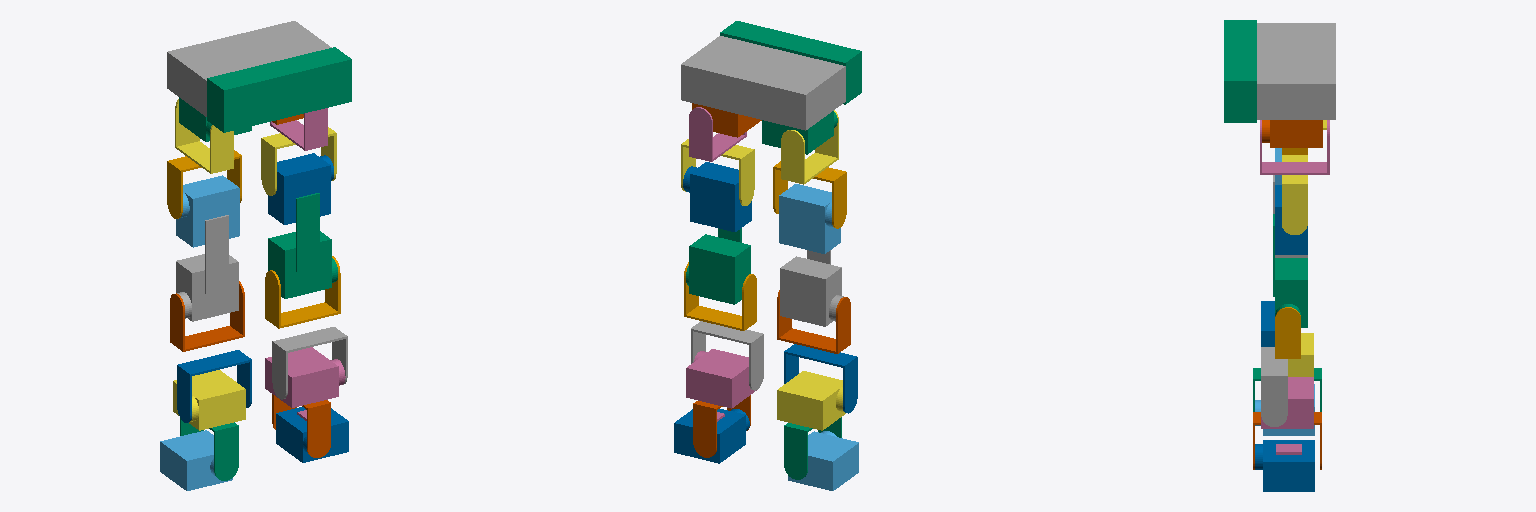
--- Render facts (derived) ---
The picture shows the robot from 3 angles, left to right: view 1: azimuth 30°, elevation 25°; view 2: azimuth 150°, elevation 25°; view 3: azimuth 270°, elevation 25°; orthographic projection.
Model humanoidV3_half with 35 links and 34 joints (8 revolute, 26 fixed), rooted at base_link, posed all joints at 0.
Links seen in each view (by area): view 1: Comp5, Comp3, servo5, servo6, servo8, servo7, servo3, servo4, servo2, csmall2, servo1, csmall7 (+9 smaller); view 2: Comp3, servo6, servo5, servo7, servo8, servo4, servo3, Comp5, servo2, servo1, csmall5, csmall2 (+10 smaller); view 3: Comp3, Comp5, servo1, servo5, csmall7, csmall9, servo9, servo3, csmall8, csmall10, servo7, servo4 (+1 smaller).
Boxes of the visible links, x1,y1,x2,y2 form: Comp5: [207, 47, 351, 132]; Comp3: [167, 21, 331, 116]; servo5: [268, 193, 337, 298]; servo6: [176, 215, 238, 321]; servo8: [176, 175, 239, 247]; servo7: [268, 153, 333, 224]; servo3: [265, 347, 345, 407]; servo4: [173, 370, 245, 430]; servo2: [160, 430, 232, 490]; csmall2: [177, 350, 251, 422]; servo1: [276, 407, 348, 462]; csmall7: [272, 327, 347, 399]; Comp3: [681, 36, 845, 130]; servo6: [780, 250, 843, 326]; servo5: [686, 228, 750, 304]; servo7: [683, 162, 751, 231]; servo8: [779, 184, 840, 253]; servo4: [777, 371, 845, 430]; servo3: [686, 349, 756, 408]; Comp5: [720, 21, 861, 104]; servo2: [788, 431, 858, 490]; servo1: [674, 409, 749, 463]; csmall5: [781, 110, 838, 184]; csmall2: [784, 344, 857, 413]; Comp3: [1257, 23, 1335, 119]; Comp5: [1224, 20, 1256, 122]; servo1: [1255, 440, 1314, 491]; servo5: [1273, 214, 1307, 327]; csmall7: [1261, 347, 1287, 426]; csmall9: [1282, 155, 1307, 234]; servo9: [1262, 120, 1322, 147]; servo3: [1261, 377, 1313, 428]; csmall8: [1275, 307, 1300, 358]; csmall10: [1260, 120, 1329, 174]; servo7: [1275, 185, 1307, 254]; servo4: [1288, 333, 1313, 376].
Bounding box of the posed robot: 0.1396 × 0.085 × 0.3379 m (x, y, z).
23 mesh visuals loaded from 35 distinct referenced files (23 binary STL); not drawn: 12 (reference not matched to a file when rendering).

robot.urdf — humanoidV3_half:
<?xml version='1.0' encoding='utf-8'?>
<robot name="humanoidV3_half">
    <link name="ankel1">
        <inertial>
            <origin xyz="-2.8545686614478426e-09 4.961367341405065e-09 0.0008749966309221885" rpy="0.0 -0.0 0.0" />
            <mass value="0.022345050000000005" />
            <inertia ixx="2.6819762642970662e-05" iyy="7.87302233046875e-06" izz="3.4681379687502375e-05" ixy="-4.446922973085077e-20" iyz="-5.815410578492806e-20" ixz="2.0434669852509998e-19" />
        </inertial>
        <visual name="ankel1_visual">
            <origin xyz="-0.03250000285456978 -0.0099999950386329 0.0017499966309222068" rpy="-3.141592653589791 4.267419750902977e-16 -6.881682016646111e-16" />
            <geometry>
                <mesh filename="meshes/ankel1.stl" scale="0.001 0.001 0.001" />
            </geometry>
        </visual>
        <collision name="ankel1_collision">
            <origin xyz="-0.03250000285456978 -0.0099999950386329 0.0017499966309222068" rpy="-3.141592653589791 4.267419750902977e-16 -6.881682016646111e-16" />
            <geometry>
                <mesh filename="meshes/ankel1.stl" scale="0.001 0.001 0.001" />
            </geometry>
        </collision>
    </link>
    <link name="servo2">
        <inertial>
            <origin xyz="-0.009549971198737257 0.0023874887169520755 0.024964922230111784" rpy="0.0 -0.0 0.0" />
            <mass value="0.05780123871717229" />
            <inertia ixx="1.1637489216004055e-05" iyy="1.635538058948426e-05" izz="1.0629005497785803e-05" ixy="6.210436850517169e-08" iyz="-1.4284004757590833e-07" ixz="5.713601902397425e-07" />
        </inertial>
        <visual name="servo2_visual">
            <origin xyz="-0.05000000285457011 0.01674999663092223 0.03599999503863284" rpy="1.570796326794899 -6.881682016646106e-16 -6.486781597980867e-16" />
            <geometry>
                <mesh filename="meshes/servo2.stl" scale="0.001 0.001 0.001" />
            </geometry>
        </visual>
        <collision name="servo2_collision">
            <origin xyz="-0.05000000285457011 0.01674999663092223 0.03599999503863284" rpy="1.570796326794899 -6.881682016646106e-16 -6.486781597980867e-16" />
            <geometry>
                <mesh filename="meshes/servo2.stl" scale="0.001 0.001 0.001" />
            </geometry>
        </collision>
    </link>
    <link name="csmall1">
        <inertial>
            <origin xyz="-3.4451162012061334e-09 4.96135654781682e-09 0.013088698801773916" rpy="0.0 -0.0 0.0" />
            <mass value="0.007517560189288541" />
            <inertia ixx="4.996715608195631e-06" iyy="1.5854743173647894e-06" izz="3.897412167647726e-06" ixy="3.705769144237565e-21" iyz="1.6548906206980893e-18" ixz="-2.315078264183458e-14" />
        </inertial>
        <visual name="csmall1_visual">
            <origin xyz="-0.050000003599628244 -0.011249995575074707 0.049999996884241976" rpy="-3.141592653589791 6.486781597980804e-16 1.4153138822986764e-15" />
            <geometry>
                <mesh filename="meshes/csmall1.stl" scale="0.001 0.001 0.001" />
            </geometry>
        </visual>
        <collision name="csmall1_collision">
            <origin xyz="-0.050000003599628244 -0.011249995575074707 0.049999996884241976" rpy="-3.141592653589791 6.486781597980804e-16 1.4153138822986764e-15" />
            <geometry>
                <mesh filename="meshes/csmall1.stl" scale="0.001 0.001 0.001" />
            </geometry>
        </collision>
    </link>
    <link name="servo4">
        <inertial>
            <origin xyz="-0.0023874888659620196 -0.009549963382800864 0.024964923591852428" rpy="3.111507638930571e-61 -0.0 0.0" />
            <mass value="0.05780123871717229" />
            <inertia ixx="1.6355380589484585e-05" iyy="1.16374892159973e-05" izz="1.0629005497790953e-05" ixy="-6.21043685048261e-08" iyz="5.713601902392325e-07" ixz="1.4284004757467357e-07" />
        </inertial>
        <visual name="servo4_visual">
            <origin xyz="-0.0657499967799339 -0.021999995038632862 -0.02000000359962833" rpy="-3.1415926535897913 -1.5707963267948952 0" />
            <geometry>
                <mesh filename="meshes/servo4.stl" scale="0.001 0.001 0.001" />
            </geometry>
        </visual>
        <collision name="servo4_collision">
            <origin xyz="-0.0657499967799339 -0.021999995038632862 -0.02000000359962833" rpy="-3.1415926535897913 -1.5707963267948952 0" />
            <geometry>
                <mesh filename="meshes/servo4.stl" scale="0.001 0.001 0.001" />
            </geometry>
        </collision>
    </link>
    <link name="csmall2">
        <inertial>
            <origin xyz="-3.5996271297022987e-09 4.37082019244528e-09 0.013088698950758672" rpy="0.0 -0.0 0.0" />
            <mass value="0.0075175601892790555" />
            <inertia ixx="1.5854743173617604e-06" iyy="4.996715608184517e-06" izz="3.897412167641438e-06" ixy="-8.555032767268433e-20" iyz="-2.315089021501888e-14" ixz="2.913793338554793e-19" />
        </inertial>
        <visual name="csmall2_visual">
            <origin xyz="-0.04450000359962822 -0.021749996320132744 0.09899999703325346" rpy="-3.141592653589791 4.271059138961151e-16 1.235205088950724e-15" />
            <geometry>
                <mesh filename="meshes/csmall2.stl" scale="0.001 0.001 0.001" />
            </geometry>
        </visual>
        <collision name="csmall2_collision">
            <origin xyz="-0.04450000359962822 -0.021749996320132744 0.09899999703325346" rpy="-3.141592653589791 4.271059138961151e-16 1.235205088950724e-15" />
            <geometry>
                <mesh filename="meshes/csmall2.stl" scale="0.001 0.001 0.001" />
            </geometry>
        </collision>
    </link>
    <link name="csmall3">
        <inertial>
            <origin xyz="-0.01991129603275702 -1.602994736948915e-09 -0.024749996400372908" rpy="0.0 -0.0 0.0" />
            <mass value="0.007517560189279032" />
            <inertia ixx="3.897412167641516e-06" iyy="4.996715608183798e-06" izz="1.585474317361652e-06" ixy="2.3150932566666244e-14" iyz="-1.5648933700523199e-19" ixz="4.87890977618477e-19" />
        </inertial>
        <visual name="csmall3_visual">
            <origin xyz="-0.14699999845690884 0.021749999087958233 0.01975000359962813" rpy="1.4217821258131194e-15 1.5707963267948954 0" />
            <geometry>
                <mesh filename="meshes/csmall3.stl" scale="0.001 0.001 0.001" />
            </geometry>
        </visual>
        <collision name="csmall3_collision">
            <origin xyz="-0.14699999845690884 0.021749999087958233 0.01975000359962813" rpy="1.4217821258131194e-15 1.5707963267948954 0" />
            <geometry>
                <mesh filename="meshes/csmall3.stl" scale="0.001 0.001 0.001" />
            </geometry>
        </collision>
    </link>
    <link name="Comp1">
        <inertial>
            <origin xyz="-3.5996270320026726e-09 0.005234147832397131 0.007101232491757727" rpy="0.0 -0.0 0.0" />
            <mass value="0.024635392744770463" />
            <inertia ixx="1.4596525160532757e-06" iyy="6.1808355249345025e-06" izz="6.812286694457537e-06" ixy="-3.5914196963582334e-19" iyz="-3.052234876525849e-07" ixz="1.1384122811097797e-18" />
        </inertial>
        <visual name="Comp1_visual">
            <origin xyz="-0.044500003599628184 -0.011309445863593127 0.11331588555303221" rpy="-3.141592653589791 4.270652564688459e-16 1.2352050889507236e-15" />
            <geometry>
                <mesh filename="meshes/Comp1.stl" scale="0.001 0.001 0.001" />
            </geometry>
        </visual>
        <collision name="Comp1_collision">
            <origin xyz="-0.044500003599628184 -0.011309445863593127 0.11331588555303221" rpy="-3.141592653589791 4.270652564688459e-16 1.2352050889507236e-15" />
            <geometry>
                <mesh filename="meshes/Comp1.stl" scale="0.001 0.001 0.001" />
            </geometry>
        </collision>
    </link>
    <link name="servo6">
        <inertial>
            <origin xyz="-0.001510475292044493 -0.059836430778758824 -0.011754290813263743" rpy="0.0 -0.0 0.0" />
            <mass value="0.060699238717172255" />
            <inertia ixx="1.4693730397501246e-05" iyy="1.2227175300402873e-05" izz="2.003750615803962e-05" ixy="-7.085129238231869e-07" iyz="-1.084649952349311e-06" ixz="8.478544706950229e-08" />
        </inertial>
        <visual name="servo6_visual">
            <origin xyz="-0.04655113359962817 -0.2166323182035889 -0.03199999780645821" rpy="-1.5707963267948952 -1.0134561938895422e-15 6.4929979419121075e-16" />
            <geometry>
                <mesh filename="meshes/servo6.stl" scale="0.001 0.001 0.001" />
            </geometry>
        </visual>
        <collision name="servo6_collision">
            <origin xyz="-0.04655113359962817 -0.2166323182035889 -0.03199999780645821" rpy="-1.5707963267948952 -1.0134561938895422e-15 6.4929979419121075e-16" />
            <geometry>
                <mesh filename="meshes/servo6.stl" scale="0.001 0.001 0.001" />
            </geometry>
        </collision>
    </link>
    <link name="csmall4">
        <inertial>
            <origin xyz="-1.751608404987337e-09 2.7840902250275692e-09 0.013088702348303408" rpy="0.0 -0.0 1.9446922743316068e-62" />
            <mass value="0.007517560189288577" />
            <inertia ixx="1.5854743173664902e-06" iyy="4.996715608188542e-06" izz="3.897412167648268e-06" ixy="-4.9763185651190145e-19" iyz="2.3150987623807816e-14" ixz="3.2255014631443757e-18" />
        </inertial>
        <visual name="csmall4_visual">
            <origin xyz="-0.044500001751597844 -0.016749999087958135 0.2590000007288018" rpy="-3.141592653589792 9.937682315333398e-16 7.301558552254602e-16" />
            <geometry>
                <mesh filename="meshes/csmall4.stl" scale="0.001 0.001 0.001" />
            </geometry>
        </visual>
        <collision name="csmall4_collision">
            <origin xyz="-0.044500001751597844 -0.016749999087958135 0.2590000007288018" rpy="-3.141592653589792 9.937682315333398e-16 7.301558552254602e-16" />
            <geometry>
                <mesh filename="meshes/csmall4.stl" scale="0.001 0.001 0.001" />
            </geometry>
        </collision>
    </link>
    <link name="servo8">
        <inertial>
            <origin xyz="-0.009549968521620045 0.002387494279572859 0.024964925439881967" rpy="0.0 -0.0 0.0" />
            <mass value="0.05780123871717224" />
            <inertia ixx="1.1637489216007708e-05" iyy="1.635538058944062e-05" izz="1.0629005497797377e-05" ixy="6.210436850423657e-08" iyz="-1.4284004757892906e-07" ixz="5.713601902298474e-07" />
        </inertial>
        <visual name="servo8_visual">
            <origin xyz="-0.22725000098212164 -0.01650000036945807 -0.020000001751597975" rpy="-3.141592653589792 -1.5707963267948954 0" />
            <geometry>
                <mesh filename="meshes/servo8.stl" scale="0.001 0.001 0.001" />
            </geometry>
        </visual>
        <collision name="servo8_collision">
            <origin xyz="-0.22725000098212164 -0.01650000036945807 -0.020000001751597975" rpy="-3.141592653589792 -1.5707963267948954 0" />
            <geometry>
                <mesh filename="meshes/servo8.stl" scale="0.001 0.001 0.001" />
            </geometry>
        </collision>
    </link>
    <link name="servo10">
        <inertial>
            <origin xyz="-0.00011250838944206975 -0.0010350757471211313 0.02045003415248685" rpy="-1.5557538194652854e-61 -0.0 0.0" />
            <mass value="0.05780123871717229" />
            <inertia ixx="1.6355380589490006e-05" iyy="1.0629005497729722e-05" izz="1.1637489216025435e-05" ixy="-1.4284004757451093e-07" iyz="5.713601902344519e-07" ixz="6.210436852066223e-08" />
        </inertial>
        <visual name="servo10_visual">
            <origin xyz="-0.2892500004754824 0.009999997061400298 0.08000000249665645" rpy="1.0914125846925462e-15 1.570796326794896 0" />
            <geometry>
                <mesh filename="meshes/servo10.stl" scale="0.001 0.001 0.001" />
            </geometry>
        </visual>
        <collision name="servo10_collision">
            <origin xyz="-0.2892500004754824 0.009999997061400298 0.08000000249665645" rpy="1.0914125846925462e-15 1.570796326794896 0" />
            <geometry>
                <mesh filename="meshes/servo10.stl" scale="0.001 0.001 0.001" />
            </geometry>
        </collision>
    </link>
    <link name="csmall5">
        <inertial>
            <origin xyz="-1.9061078493365357e-09 -0.019911298304645192 -0.024749997061399593" rpy="0.0 -0.0 0.0" />
            <mass value="0.0075175601892790815" />
            <inertia ixx="4.996715608188542e-06" iyy="3.897412167641834e-06" izz="1.5854743173523414e-06" ixy="2.314892255748241e-14" iyz="-9.825582188149884e-20" ixz="-6.238397656527922e-19" />
        </inertial>
        <visual name="csmall5_visual">
            <origin xyz="-0.050000002496656315 -0.29600000072880195 -0.03699999834290019" rpy="-1.5707963267948954 -7.301558552254616e-16 4.52906399314503e-16" />
            <geometry>
                <mesh filename="meshes/csmall5.stl" scale="0.001 0.001 0.001" />
            </geometry>
        </visual>
        <collision name="csmall5_collision">
            <origin xyz="-0.050000002496656315 -0.29600000072880195 -0.03699999834290019" rpy="-1.5707963267948954 -7.301558552254616e-16 4.52906399314503e-16" />
            <geometry>
                <mesh filename="meshes/csmall5.stl" scale="0.001 0.001 0.001" />
            </geometry>
        </collision>
    </link>
    <link name="servo1">
        <inertial>
            <origin xyz="0.009549966518355255 0.002387488716951498 0.02496492223011178" rpy="0.0 -1.9446922743316068e-62 0.0" />
            <mass value="0.05780123871717229" />
            <inertia ixx="1.1637489216004664e-05" iyy="1.635538058948399e-05" izz="1.0629005497773958e-05" ixy="-6.21043685011737e-08" iyz="-1.4284004757605402e-07" ixz="-5.713601902385041e-07" />
        </inertial>
        <visual name="servo1_visual">
            <origin xyz="-0.12500000182581783 0.016749996630921686 0.035999995038633055" rpy="1.5707963267948986 1.3102332426606643e-15 -4.0766001685454745e-16" />
            <geometry>
                <mesh filename="meshes/servo1.stl" scale="0.001 0.001 0.001" />
            </geometry>
        </visual>
        <collision name="servo1_collision">
            <origin xyz="-0.12500000182581783 0.016749996630921686 0.035999995038633055" rpy="1.5707963267948986 1.3102332426606643e-15 -4.0766001685454745e-16" />
            <geometry>
                <mesh filename="meshes/servo1.stl" scale="0.001 0.001 0.001" />
            </geometry>
        </collision>
    </link>
    <link name="csmall6">
        <inertial>
            <origin xyz="-1.2352658984582377e-09 4.961367565670116e-09 0.01308869880174826" rpy="0.0 -0.0 0.0" />
            <mass value="0.007517560189279023" />
            <inertia ixx="4.996715608185755e-06" iyy="1.5854743173593074e-06" izz="3.897412167641319e-06" ixy="-1.367958209815695e-19" iyz="1.747005453711994e-20" ixz="2.3151355236106924e-14" />
        </inertial>
        <visual name="csmall6_visual">
            <origin xyz="-0.1250000010807597 -0.011249995575074768 0.04999999688424148" rpy="-3.141592653589791 4.0766001685454656e-16 1.2490009069339105e-15" />
            <geometry>
                <mesh filename="meshes/csmall6.stl" scale="0.001 0.001 0.001" />
            </geometry>
        </visual>
        <collision name="csmall6_collision">
            <origin xyz="-0.1250000010807597 -0.011249995575074768 0.04999999688424148" rpy="-3.141592653589791 4.0766001685454656e-16 1.2490009069339105e-15" />
            <geometry>
                <mesh filename="meshes/csmall6.stl" scale="0.001 0.001 0.001" />
            </geometry>
        </collision>
    </link>
    <link name="servo3">
        <inertial>
            <origin xyz="-0.0023874888659615847 0.0095499633828008 0.02496492827223481" rpy="0.0 -0.0 0.0" />
            <mass value="0.05780123871717229" />
            <inertia ixx="1.6355380589487024e-05" iyy="1.163748921598597e-05" izz="1.0629005497791305e-05" ixy="6.210436850496925e-08" iyz="-5.713601902409419e-07" ixz="1.4284004757995905e-07" />
        </inertial>
        <visual name="servo3_visual">
            <origin xyz="-0.06574999677993333 0.021999995038632873 0.15500000108075956" rpy="2.012345771882042e-15 1.5707963267948952 0" />
            <geometry>
                <mesh filename="meshes/servo3.stl" scale="0.001 0.001 0.001" />
            </geometry>
        </visual>
        <collision name="servo3_collision">
            <origin xyz="-0.06574999677993333 0.021999995038632873 0.15500000108075956" rpy="2.012345771882042e-15 1.5707963267948952 0" />
            <geometry>
                <mesh filename="meshes/servo3.stl" scale="0.001 0.001 0.001" />
            </geometry>
        </collision>
    </link>
    <link name="csmall7">
        <inertial>
            <origin xyz="-1.0807555561598293e-09 4.3708202324133085e-09 0.013088698950758353" rpy="0.0 -0.0 0.0" />
            <mass value="0.007517560189279044" />
            <inertia ixx="1.585474317361896e-06" iyy="4.996715608183256e-06" izz="3.8974121676419425e-06" ixy="-2.1175823681357508e-19" iyz="-2.31508690391952e-14" ixz="6.640738306473715e-19" />
        </inertial>
        <visual name="csmall7_visual">
            <origin xyz="-0.13050000108075968 -0.021749996320132796 0.09899999703325324" rpy="-3.141592653589791 4.0742861272967434e-16 1.249000899855005e-15" />
            <geometry>
                <mesh filename="meshes/csmall7.stl" scale="0.001 0.001 0.001" />
            </geometry>
        </visual>
        <collision name="csmall7_collision">
            <origin xyz="-0.13050000108075968 -0.021749996320132796 0.09899999703325324" rpy="-3.141592653589791 4.0742861272967434e-16 1.249000899855005e-15" />
            <geometry>
                <mesh filename="meshes/csmall7.stl" scale="0.001 0.001 0.001" />
            </geometry>
        </collision>
    </link>
    <link name="csmall8">
        <inertial>
            <origin xyz="-0.01991129603275672 1.6029947946805123e-09 -0.024750001080755767" rpy="0.0 -0.0 0.0" />
            <mass value="0.0075175601892790555" />
            <inertia ixx="3.89741216764197e-06" iyy="4.996715608181982e-06" izz="1.5854743173623702e-06" ixy="-2.3150949083808716e-14" iyz="-3.290723000082957e-19" ixz="-8.673617379884035e-19" />
        </inertial>
        <visual name="csmall8_visual">
            <origin xyz="-0.14699999845690861 -0.021749999087958237 -0.1552500010807598" rpy="-3.141592653589792 -1.5707963267948952 0" />
            <geometry>
                <mesh filename="meshes/csmall8.stl" scale="0.001 0.001 0.001" />
            </geometry>
        </visual>
        <collision name="csmall8_collision">
            <origin xyz="-0.14699999845690861 -0.021749999087958237 -0.1552500010807598" rpy="-3.141592653589792 -1.5707963267948952 0" />
            <geometry>
                <mesh filename="meshes/csmall8.stl" scale="0.001 0.001 0.001" />
            </geometry>
        </collision>
    </link>
    <link name="Comp2">
        <inertial>
            <origin xyz="-1.0807555739233977e-09 0.0052341478323971735 0.007101232491757585" rpy="0.0 -0.0 0.0" />
            <mass value="0.024635392744770463" />
            <inertia ixx="1.4596525160541973e-06" iyy="6.18083552493022e-06" izz="6.812286694459326e-06" ixy="-8.487270131488089e-19" iyz="-3.052234876525112e-07" ixz="2.3310346708438345e-18" />
        </inertial>
        <visual name="Comp2_visual">
            <origin xyz="-0.13050000108075963 -0.011309445863593193 0.11331588555303214" rpy="-3.141592653589791 4.069010736003487e-16 1.2490009926756353e-15" />
            <geometry>
                <mesh filename="meshes/Comp2.stl" scale="0.001 0.001 0.001" />
            </geometry>
        </visual>
        <collision name="Comp2_collision">
            <origin xyz="-0.13050000108075963 -0.011309445863593193 0.11331588555303214" rpy="-3.141592653589791 4.069010736003487e-16 1.2490009926756353e-15" />
            <geometry>
                <mesh filename="meshes/Comp2.stl" scale="0.001 0.001 0.001" />
            </geometry>
        </collision>
    </link>
    <link name="servo5">
        <inertial>
            <origin xyz="0.0015104706116613898 -0.059836430778758685 -0.011754290813263677" rpy="0.0 -0.0 0.0" />
            <mass value="0.06069923871717226" />
            <inertia ixx="1.4693730397505583e-05" iyy="1.2227175300407941e-05" izz="2.003750615803138e-05" ixy="7.085129238092007e-07" iyz="-1.0846499523494262e-06" ixz="-8.478544707405425e-08" />
        </inertial>
        <visual name="servo5_visual">
            <origin xyz="-0.1284488710807597 -0.21663231820358875 -0.03199999780645829" rpy="-1.5707963267948952 -1.4710456866728654e-15 1.8463958064169038e-16" />
            <geometry>
                <mesh filename="meshes/servo5.stl" scale="0.001 0.001 0.001" />
            </geometry>
        </visual>
        <collision name="servo5_collision">
            <origin xyz="-0.1284488710807597 -0.21663231820358875 -0.03199999780645829" rpy="-1.5707963267948952 -1.4710456866728654e-15 1.8463958064169038e-16" />
            <geometry>
                <mesh filename="meshes/servo5.stl" scale="0.001 0.001 0.001" />
            </geometry>
        </collision>
    </link>
    <link name="csmall9">
        <inertial>
            <origin xyz="-2.928775373334247e-09 2.7840902805387205e-09 0.013088702348303229" rpy="0.0 -0.0 0.0" />
            <mass value="0.007517560189288569" />
            <inertia ixx="1.5854743173678997e-06" iyy="4.9967156081874575e-06" izz="3.897412167649125e-06" ixy="-6.2511031507367365e-19" iyz="2.3151016422928022e-14" ixz="2.710505431213761e-19" />
        </inertial>
        <visual name="csmall9_visual">
            <origin xyz="-0.1305000029287901 -0.01674999908795828 0.2590000007288016" rpy="-3.141592653589792 -3.7459185059836284e-17 1.6930925415094461e-15" />
            <geometry>
                <mesh filename="meshes/csmall9.stl" scale="0.001 0.001 0.001" />
            </geometry>
        </visual>
        <collision name="csmall9_collision">
            <origin xyz="-0.1305000029287901 -0.01674999908795828 0.2590000007288016" rpy="-3.141592653589792 -3.7459185059836284e-17 1.6930925415094461e-15" />
            <geometry>
                <mesh filename="meshes/csmall9.stl" scale="0.001 0.001 0.001" />
            </geometry>
        </collision>
    </link>
    <link name="servo7">
        <inertial>
            <origin xyz="-0.009549968521619831 -0.0023874942795729104 0.02496493012026555" rpy="0.0 -0.0 0.0" />
            <mass value="0.05780123871717224" />
            <inertia ixx="1.1637489216011774e-05" iyy="1.6355380589428477e-05" izz="1.0629005497811688e-05" ixy="-6.210436850401973e-08" iyz="1.428400475718411e-07" ixz="5.713601902526157e-07" />
        </inertial>
        <visual name="servo7_visual">
            <origin xyz="-0.22725000098212136 0.01650000036945815 0.1550000029287901" rpy="1.3288061796878798e-15 1.5707963267948952 0" />
            <geometry>
                <mesh filename="meshes/servo7.stl" scale="0.001 0.001 0.001" />
            </geometry>
        </visual>
        <collision name="servo7_collision">
            <origin xyz="-0.22725000098212136 0.01650000036945815 0.1550000029287901" rpy="1.3288061796878798e-15 1.5707963267948952 0" />
            <geometry>
                <mesh filename="meshes/servo7.stl" scale="0.001 0.001 0.001" />
            </geometry>
        </collision>
    </link>
    <link name="servo9">
        <inertial>
            <origin xyz="-0.00011250838944196318 0.0010350757471211725 0.020450029472102643" rpy="-1.5557538194652854e-61 -0.0 0.0" />
            <mass value="0.05780123871717229" />
            <inertia ixx="1.6355380589495047e-05" iyy="1.0629005497726253e-05" izz="1.1637489216028037e-05" ixy="1.428400475743212e-07" iyz="-5.713601902454057e-07" ixz="6.210436848683512e-08" />
        </inertial>
        <visual name="servo9_visual">
            <origin xyz="-0.2892500004754823 -0.009999997061400298 -0.09500000218373193" rpy="-3.1415926535897922 -1.570796326794896 0" />
            <geometry>
                <mesh filename="meshes/servo9.stl" scale="0.001 0.001 0.001" />
            </geometry>
        </visual>
        <collision name="servo9_collision">
            <origin xyz="-0.2892500004754823 -0.009999997061400298 -0.09500000218373193" rpy="-3.1415926535897922 -1.570796326794896 0" />
            <geometry>
                <mesh filename="meshes/servo9.stl" scale="0.001 0.001 0.001" />
            </geometry>
        </collision>
    </link>
    <link name="csmall10">
        <inertial>
            <origin xyz="-2.7742760799753798e-09 -0.019911298304619685 -0.02474999706141061" rpy="0.0 -0.0 0.0" />
            <mass value="0.0075175601892885895" />
            <inertia ixx="4.996715608197107e-06" iyy="3.897412167649342e-06" izz="1.585474317356136e-06" ixy="-2.3153137393427947e-14" iyz="1.5077186461126546e-18" ixz="-7.352245982167327e-19" />
        </inertial>
        <visual name="csmall10_visual">
            <origin xyz="-0.1250000021837316 -0.29600000072880184 -0.036999998342900325" rpy="-1.5707963267948954 -1.6930925415094453e-15 2.0816681711721522e-16" />
            <geometry>
                <mesh filename="meshes/csmall10.stl" scale="0.001 0.001 0.001" />
            </geometry>
        </visual>
        <collision name="csmall10_collision">
            <origin xyz="-0.1250000021837316 -0.29600000072880184 -0.036999998342900325" rpy="-1.5707963267948954 -1.6930925415094453e-15 2.0816681711721522e-16" />
            <geometry>
                <mesh filename="meshes/csmall10.stl" scale="0.001 0.001 0.001" />
            </geometry>
        </collision>
    </link>
    <link name="Comp3">
        <inertial>
            <origin xyz="-2.340192111205397e-09 -2.9386003363995885e-09 0.015000001978838605" rpy="0.0 -0.0 0.0" />
            <mass value="0.324126" />
            <inertia ixx="0.00012154725000009664" iyy="0.0003511364999996894" izz="0.0004240648500000899" ixy="3.6700243538634325e-17" iyz="8.998878031629687e-18" ixz="-1.0928757898653885e-16" />
        </inertial>
        <visual name="Comp3_visual">
            <origin xyz="-0.08790239544049004 0.029999997061400968 -0.30209760492087634" rpy="1.4266571980938258e-15 -3.308896091966322e-16 -7.021478737325885e-16" />
            <geometry>
                <mesh filename="meshes/Comp3.stl" scale="0.001 0.001 0.001" />
            </geometry>
        </visual>
        <collision name="Comp3_collision">
            <origin xyz="-0.08790239544049004 0.029999997061400968 -0.30209760492087634" rpy="1.4266571980938258e-15 -3.308896091966322e-16 -7.021478737325885e-16" />
            <geometry>
                <mesh filename="meshes/Comp3.stl" scale="0.001 0.001 0.001" />
            </geometry>
        </collision>
    </link>
    <link name="ankel2">
        <inertial>
            <origin xyz="-1.8258131717630023e-09 4.961367401357108e-09 0.0008749966309217045" rpy="0.0 -0.0 1.9446922743316068e-62" />
            <mass value="0.022345050000000005" />
            <inertia ixx="2.681976264297074e-05" iyy="7.873022330461303e-06" izz="3.468137968750182e-05" ixy="-4.760325163569168e-19" iyz="2.2869889575866112e-20" ixz="1.6339265552535454e-18" />
        </inertial>
        <visual name="ankel2_visual">
            <origin xyz="-0.14250000182581812 -0.00999999503863305 0.0017499966309217736" rpy="-3.141592653589791 4.2674197509029134e-16 1.310233242660665e-15" />
            <geometry>
                <mesh filename="meshes/ankel2.stl" scale="0.001 0.001 0.001" />
            </geometry>
        </visual>
        <collision name="ankel2_collision">
            <origin xyz="-0.14250000182581812 -0.00999999503863305 0.0017499966309217736" rpy="-3.141592653589791 4.2674197509029134e-16 1.310233242660665e-15" />
            <geometry>
                <mesh filename="meshes/ankel2.stl" scale="0.001 0.001 0.001" />
            </geometry>
        </collision>
    </link>
    <link name="base_link">
        <inertial>
            <origin xyz="0.0875000013038567 -0.0009999999999999115 0.2943680743872477" rpy="0.0 0.0 0.0" />
            <mass value="0.01755626878248209" />
            <inertia ixx="1.5391454563691157e-06" iyy="1.5991293939087798e-06" izz="1.2304018564035566e-06" ixy="1.7481631746319775e-18" iyz="2.708527954745572e-19" ixz="-5.426260569944666e-18" />
        </inertial>
        <visual name="base_link_visual">
            <origin xyz="0.0 0.0 0.0" rpy="0.0 0.0 0.0" />
            <geometry>
                <mesh filename="meshes/base_link.stl" scale="0.001 0.001 0.001" />
            </geometry>
        </visual>
        <collision name="base_link_collision">
            <origin xyz="0.0 0.0 0.0" rpy="0.0 0.0 0.0" />
            <geometry>
                <mesh filename="meshes/base_link.stl" scale="0.001 0.001 0.001" />
            </geometry>
        </collision>
    </link>
    <link name="Comp4">
        <inertial>
            <origin xyz="-2.3401922533139443e-09 -2.9386003908005165e-09 0.030000001978839067" rpy="0.0 -0.0 0.0" />
            <mass value="0.039288000000000003" />
            <inertia ixx="1.3095999999972012e-05" iyy="1.3095999999935583e-05" izz="2.6191999999999427e-06" ixy="1.7414997395548415e-18" iyz="-1.2115959277525512e-17" ixz="4.119968255444917e-18" />
        </inertial>
        <visual name="Comp4_visual">
            <origin xyz="-0.09858072889946762 -0.008716800000000349 -0.35762684908396125" rpy="-8.3421645302472e-16 1.1102230246251527e-16 -7.02147873732588e-16" />
            <geometry>
                <mesh filename="meshes/Comp4.stl" scale="0.001 0.001 0.001" />
            </geometry>
        </visual>
        <collision name="Comp4_collision">
            <origin xyz="-0.09858072889946762 -0.008716800000000349 -0.35762684908396125" rpy="-8.3421645302472e-16 1.1102230246251527e-16 -7.02147873732588e-16" />
            <geometry>
                <mesh filename="meshes/Comp4.stl" scale="0.001 0.001 0.001" />
            </geometry>
        </collision>
    </link>
    <link name="sensor2">
        <inertial>
            <origin xyz="-2.8545688746106635e-09 -4.961367416900231e-09 0.0010000033690786925" rpy="0.0 -0.0 0.0" />
            <mass value="0.00111" />
            <inertia ixx="3.736999999999224e-08" iyy="2.1182500000000792e-08" izz="5.781249999998658e-08" ixy="-1.164670302474663e-21" iyz="-6.61744490042422e-23" ixz="-2.1175823681357513e-22" />
        </inertial>
        <visual name="sensor2_visual">
            <origin xyz="-0.10238803388935502 0.14515758070769377 3.3690790379736767e-09" rpy="2.377324588427018e-15 -1.577721810442026e-30 6.881682016646131e-16" />
            <geometry>
                <mesh filename="meshes/sensor2.stl" scale="0.001 0.001 0.001" />
            </geometry>
        </visual>
        <collision name="sensor2_collision">
            <origin xyz="-0.10238803388935502 0.14515758070769377 3.3690790379736767e-09" rpy="2.377324588427018e-15 -1.577721810442026e-30 6.881682016646131e-16" />
            <geometry>
                <mesh filename="meshes/sensor2.stl" scale="0.001 0.001 0.001" />
            </geometry>
        </collision>
    </link>
    <link name="sensor7">
        <inertial>
            <origin xyz="1.9788393501585233e-09 -2.9386003363995885e-09 0.0010000023401924986" rpy="-9.723461371658034e-63 -0.0 0.0" />
            <mass value="0.00111" />
            <inertia ixx="2.118250000004018e-08" iyy="3.7369999999890173e-08" izz="5.78124999998735e-08" ixy="6.3527471044072525e-21" iyz="-4.219894877684143e-40" ixz="-6.776263578034403e-21" />
        </inertial>
        <visual name="sensor7_visual">
            <origin xyz="0.1451575876479007 0.10238802809618537 2.3401924131860596e-09" rpy="-1.1102230246251906e-16 -7.021478737325589e-16 -1.5707963267948977" />
            <geometry>
                <mesh filename="meshes/sensor7.stl" scale="0.001 0.001 0.001" />
            </geometry>
        </visual>
        <collision name="sensor7_collision">
            <origin xyz="0.1451575876479007 0.10238802809618537 2.3401924131860596e-09" rpy="-1.1102230246251906e-16 -7.021478737325589e-16 -1.5707963267948977" />
            <geometry>
                <mesh filename="meshes/sensor7.stl" scale="0.001 0.001 0.001" />
            </geometry>
        </collision>
    </link>
    <link name="sensor4">
        <inertial>
            <origin xyz="-3.599627156347651e-09 -1.7964164378270198e-09 0.0009999978064577308" rpy="0.0 -0.0 0.0" />
            <mass value="0.00111" />
            <inertia ixx="3.7369999999995205e-08" iyy="2.1182500000001216e-08" izz="5.781249999998531e-08" ixy="0.0" iyz="0.0" ixz="-4.235164736271502e-22" />
        </inertial>
        <visual name="sensor4_visual">
            <origin xyz="-0.1023880346344131 0.14515758387264488 -2.193541939199406e-09" rpy="1.5881393422555345e-15 9.52223853932184e-16 -6.492997941912091e-16" />
            <geometry>
                <mesh filename="meshes/sensor4.stl" scale="0.001 0.001 0.001" />
            </geometry>
        </visual>
        <collision name="sensor4_collision">
            <origin xyz="-0.1023880346344131 0.14515758387264488 -2.193541939199406e-09" rpy="1.5881393422555345e-15 9.52223853932184e-16 -6.492997941912091e-16" />
            <geometry>
                <mesh filename="meshes/sensor4.stl" scale="0.001 0.001 0.001" />
            </geometry>
        </collision>
    </link>
    <link name="sensor1">
        <inertial>
            <origin xyz="-1.8258132783444125e-09 -4.961367470190936e-09 0.0010000033690792255" rpy="0.0 -0.0 -1.9446922743316068e-62" />
            <mass value="0.00111" />
            <inertia ixx="3.7369999999986735e-08" iyy="2.1182500000004604e-08" izz="5.781249999998531e-08" ixy="1.4823076576950256e-21" iyz="-1.1911400820763599e-22" ixz="2.850376317692965e-39" />
        </inertial>
        <visual name="sensor1_visual">
            <origin xyz="-0.10238803286059911 0.1451575807076939 3.3690795175900234e-09" rpy="2.0263332571933324e-15 2.415886522239338e-30 -1.3102332426606636e-15" />
            <geometry>
                <mesh filename="meshes/sensor1.stl" scale="0.001 0.001 0.001" />
            </geometry>
        </visual>
        <collision name="sensor1_collision">
            <origin xyz="-0.10238803286059911 0.1451575807076939 3.3690795175900234e-09" rpy="2.0263332571933324e-15 2.415886522239338e-30 -1.3102332426606636e-15" />
            <geometry>
                <mesh filename="meshes/sensor1.stl" scale="0.001 0.001 0.001" />
            </geometry>
        </collision>
    </link>
    <link name="sensor5">
        <inertial>
            <origin xyz="3.2693061058353123e-09 -7.320060968485365e-10 0.0009999970712144446" rpy="0.0 -0.0 0.0" />
            <mass value="0.00111" />
            <inertia ixx="2.118250000001138e-08" iyy="3.7369999999998594e-08" izz="5.781250000000903e-08" ixy="1.6940658945086007e-21" iyz="2.117582368135751e-22" ixz="2.2803010541548517e-38" />
        </inertial>
        <visual name="sensor5_visual">
            <origin xyz="-0.14515758239975501 -0.1023880317667923 -2.928785498568232e-09" rpy="-3.7459185059834885e-17 5.413374510864967e-16 1.570796326794898" />
            <geometry>
                <mesh filename="meshes/sensor5.stl" scale="0.001 0.001 0.001" />
            </geometry>
        </visual>
        <collision name="sensor5_collision">
            <origin xyz="-0.14515758239975501 -0.1023880317667923 -2.928785498568232e-09" rpy="-3.7459185059834885e-17 5.413374510864967e-16 1.570796326794898" />
            <geometry>
                <mesh filename="meshes/sensor5.stl" scale="0.001 0.001 0.001" />
            </geometry>
        </collision>
    </link>
    <link name="sensor3">
        <inertial>
            <origin xyz="-1.0807558759040603e-09 -1.796416579935567e-09 0.000999997806457751" rpy="0.0 -0.0 0.0" />
            <mass value="0.00111" />
            <inertia ixx="3.736999999999182e-08" iyy="2.1182500000004604e-08" izz="5.78124999999887e-08" ixy="1.4739866014051436e-38" iyz="8.470329472543003e-22" ixz="6.741874483203176e-39" />
        </inertial>
        <visual name="sensor3_visual">
            <origin xyz="-0.10238803211554187 0.14515758387264469 -2.1935418703655784e-09" rpy="1.5952950765962468e-15 1.4098135165394976e-15 -1.8463958064169048e-16" />
            <geometry>
                <mesh filename="meshes/sensor3.stl" scale="0.001 0.001 0.001" />
            </geometry>
        </visual>
        <collision name="sensor3_collision">
            <origin xyz="-0.10238803211554187 0.14515758387264469 -2.1935418703655784e-09" rpy="1.5952950765962468e-15 1.4098135165394976e-15 -1.8463958064169048e-16" />
            <geometry>
                <mesh filename="meshes/sensor3.stl" scale="0.001 0.001 0.001" />
            </geometry>
        </collision>
    </link>
    <link name="sensor6">
        <inertial>
            <origin xyz="3.2693058926724918e-09 7.320062211935153e-10 0.0010000017515983074" rpy="0.0 -0.0 0.0" />
            <mass value="0.00111" />
            <inertia ixx="2.1182499999999733e-08" iyy="3.7370000000012146e-08" izz="5.781250000000903e-08" ixy="4.235164736271502e-21" iyz="-2.6469779601696868e-23" ixz="-1.3254499705944145e-52" />
        </inertial>
        <visual name="sensor6_visual">
            <origin xyz="0.14515758893836725 0.10238803176679208 1.751598350807626e-09" rpy="9.937682315333412e-16 -9.85426449178317e-16 -1.570796326794898" />
            <geometry>
                <mesh filename="meshes/sensor6.stl" scale="0.001 0.001 0.001" />
            </geometry>
        </visual>
        <collision name="sensor6_collision">
            <origin xyz="0.14515758893836725 0.10238803176679208 1.751598350807626e-09" rpy="9.937682315333412e-16 -9.85426449178317e-16 -1.570796326794898" />
            <geometry>
                <mesh filename="meshes/sensor6.stl" scale="0.001 0.001 0.001" />
            </geometry>
        </collision>
    </link>
    <link name="Comp5">
        <inertial>
            <origin xyz="-2.340192200023239e-09 1.9788384975072405e-09 0.012500002938601562" rpy="0.0 -0.0 0.0" />
            <mass value="0.15756125" />
            <inertia ixx="2.4290692708383438e-05" iyy="0.00016708057552068602" izz="0.00017495863802087508" ixy="-1.734723475976807e-17" iyz="4.7704895589362195e-18" ixz="5.366800753803247e-17" />
        </inertial>
        <visual name="Comp5_visual">
            <origin xyz="-0.08790239544049182 -0.017499998021162533 0.3320976098383161" rpy="-3.1415926535897913 -4.849288164901163e-15 3.308896091966263e-16" />
            <geometry>
                <mesh filename="meshes/Comp5.stl" scale="0.001 0.001 0.001" />
            </geometry>
        </visual>
        <collision name="Comp5_collision">
            <origin xyz="-0.08790239544049182 -0.017499998021162533 0.3320976098383161" rpy="-3.1415926535897913 -4.849288164901163e-15 3.308896091966263e-16" />
            <geometry>
                <mesh filename="meshes/Comp5.stl" scale="0.001 0.001 0.001" />
            </geometry>
        </collision>
    </link>
    <joint name="servo2_Rigid-85" type="fixed">
        <origin xyz="-0.01 0.015 0.025999999999999995" rpy="-1.5707963267948966 -4.4320160466905134e-32 9.860761315262648e-32" />
        <parent link="servo2" />
        <child link="ankel1" />
    </joint>
    <joint name="servo1_Rigid-86" type="fixed">
        <origin xyz="0.01 0.015 0.025999999999999995" rpy="-1.5707963267948966 -5.702138497759798e-33 -9.860761315262648e-32" />
        <parent link="servo1" />
        <child link="ankel2" />
    </joint>
    <joint name="servo2_val" type="fixed">
        <origin xyz="0.0 0.024749999999999998 0.033" rpy="1.5707963267948966 9.860761315262648e-32 1.4739898164836845e-31" />
        <parent link="csmall1" />
        <child link="servo2" />
        <axis xyz="-7.992343164533666e-32 0.0 1.0" />
        <limit lower="-0.872665" upper="0.872665" effort="1000000" velocity="1000000" />
    </joint>
    <joint name="servo1_val" type="fixed">
        <origin xyz="0.0 0.024749999999999998 0.033" rpy="1.5707963267948966 -4.930380657631324e-32 -1.97324315788137e-31" />
        <parent link="csmall6" />
        <child link="servo1" />
        <axis xyz="3.1492006061600383e-32 -3.944304526105059e-31 1.0" />
        <limit lower="-0.872665" upper="0.872665" effort="1000000" velocity="1000000" />
    </joint>
    <joint name="servo3_Rigid-89" type="fixed">
        <origin xyz="-0.015 0.01 0.026000000000000016" rpy="-3.141592653589793 1.5707963267948966 0" />
        <parent link="servo3" />
        <child link="csmall6" />
    </joint>
    <joint name="servo4_Rigid-90" type="fixed">
        <origin xyz="-0.015 -0.01 0.026000000000000002" rpy="-0.0 -1.5707963267948966 0" />
        <parent link="servo4" />
        <child link="csmall1" />
    </joint>
    <joint name="servo4_val" type="revolute">
        <origin xyz="-0.02475 0.0 0.033" rpy="1.9734305032509502e-31 1.5707963267948966 0" />
        <parent link="csmall2" />
        <child link="servo4" />
        <axis xyz="7.888609052210118e-31 5.227728254181639e-31 1.0" />
        <limit lower="-1.570796" upper="1.570796" effort="1000000" velocity="1000000" />
    </joint>
    <joint name="Comp1_Rigid-92" type="fixed">
        <origin xyz="0.0 0.01046829 0.014202469999999998" rpy="1.9721522630525295e-31 -5.616505753082788e-63 -2.84790675563228e-32" />
        <parent link="Comp1" />
        <child link="csmall2" />
    </joint>
    <joint name="csmall3_Rigid-93" type="fixed">
        <origin xyz="-0.03300000000000001 0.0 -0.02475" rpy="-3.141592653589793 1.5707963267948966 0" />
        <parent link="csmall3" />
        <child link="Comp1" />
    </joint>
    <joint name="servo6_val" type="revolute">
        <origin xyz="-0.026551129999999996 -0.07088231999999998 -0.01" rpy="-1.5707963267948966 -0.0 1.5707963267948966" />
        <parent link="servo6" />
        <child link="csmall3" />
        <axis xyz="0.0 -1.159031063722169e-33 1.0" />
        <limit lower="-1.570796" upper="1.570796" effort="1000000" velocity="1000000" />
    </joint>
    <joint name="servo8_Rigid-95" type="fixed">
        <origin xyz="-0.01 0.015 0.025999999999999995" rpy="-1.5707963267948966 -1.5707963267948966 0" />
        <parent link="servo8" />
        <child link="servo6" />
    </joint>
    <joint name="servo8_val" type="revolute">
        <origin xyz="-0.024749999999999998 0.0 0.03300000000000001" rpy="7.992286107048302e-32 1.5707963267948966 0" />
        <parent link="csmall4" />
        <child link="servo8" />
        <axis xyz="0.0 2.7962383350627467e-31 1.0" />
        <limit lower="-1.570796" upper="1.570796" effort="1000000" velocity="1000000" />
    </joint>
    <joint name="csmall5_Rigid-97" type="fixed">
        <origin xyz="0.0 -0.03300000000000001 -0.02475" rpy="1.5707963267948966 -2.1340054758171858e-32 9.860761315262648e-32" />
        <parent link="csmall5" />
        <child link="csmall4" />
    </joint>
    <joint name="servo10_val" type="revolute">
        <origin xyz="-0.0025 -0.026000000000000002 0.03" rpy="1.5707963267948966 1.5707963267948966 0" />
        <parent link="servo10" />
        <child link="csmall5" />
        <axis xyz="2.7286503733033063e-32 -0.0 1.0" />
        <limit lower="-1.570796" upper="0.523599" effort="1000000" velocity="1000000" />
    </joint>
    <joint name="base_link_Rigid-99" type="fixed">
        <origin xyz="0.07700000364404411 -0.0009999970613996456 0.2943680748627" rpy="7.021478737325863e-16 -1.5707963267948928 0" />
        <parent link="base_link" />
        <child link="servo10" />
    </joint>
    <joint name="servo3_val" type="revolute">
        <origin xyz="0.024750000000000015 0.0 0.033" rpy="3.141592653589793 1.5707963267948966 0" />
        <parent link="csmall7" />
        <child link="servo3" />
        <axis xyz="-7.888609052210118e-31 1.6743631100220177e-31 1.0" />
        <limit lower="-1.570796" upper="1.570796" effort="1000000" velocity="1000000" />
    </joint>
    <joint name="Comp2_Rigid-101" type="fixed">
        <origin xyz="0.0 0.01046829 0.014202469999999998" rpy="-3.944304526105059e-31 -0.0 -6.221834973550431e-32" />
        <parent link="Comp2" />
        <child link="csmall7" />
    </joint>
    <joint name="csmall8_Rigid-102" type="fixed">
        <origin xyz="-0.03300000000000001 0.0 -0.024750000000000015" rpy="-1.9721522630525295e-31 -1.5707963267948966 0" />
        <parent link="csmall8" />
        <child link="Comp2" />
    </joint>
    <joint name="servo5_val" type="revolute">
        <origin xyz="0.02655113000000002 -0.07088231999999998 -0.01" rpy="1.5707963267948966 -1.9721522630525295e-31 1.5707963267948966" />
        <parent link="servo5" />
        <child link="csmall8" />
        <axis xyz="-3.944304526105059e-31 -7.727863396283102e-32 1.0" />
        <limit lower="-1.570796" upper="1.570796" effort="1000000" velocity="1000000" />
    </joint>
    <joint name="servo7_Rigid-104" type="fixed">
        <origin xyz="-0.01 -0.015 0.025999999999999995" rpy="1.5707963267948966 1.5707963267948966 0" />
        <parent link="servo7" />
        <child link="servo5" />
    </joint>
    <joint name="servo7_val" type="revolute">
        <origin xyz="0.024749999999999998 0.0 0.03300000000000001" rpy="3.141592653589793 1.5707963267948966 0" />
        <parent link="csmall9" />
        <child link="servo7" />
        <axis xyz="-3.944304526105059e-31 -1.8538350212600917e-31 1.0" />
        <limit lower="-1.570796" upper="1.570796" effort="1000000" velocity="1000000" />
    </joint>
    <joint name="csmall10_Rigid-106" type="fixed">
        <origin xyz="0.0 -0.03300000000000001 -0.02475" rpy="1.5707963267948966 2.784067740973774e-31 0.0" />
        <parent link="csmall10" />
        <child link="csmall9" />
    </joint>
    <joint name="servo9_val" type="revolute">
        <origin xyz="-0.0025 0.026000000000000002 0.03" rpy="-1.5707963267948966 -1.5707963267948966 0" />
        <parent link="servo9" />
        <child link="csmall10" />
        <axis xyz="2.728650373303245e-32 -0.0 1.0" />
        <limit lower="-0.523599" upper="1.570796" effort="1000000" velocity="1000000" />
    </joint>
    <joint name="base_link_Rigid-108" type="fixed">
        <origin xyz="0.09800000364404338 -0.00099999706139963 0.2943680748627" rpy="-3.1415926535897927 -1.5707963267948928 0" />
        <parent link="base_link" />
        <child link="servo9" />
    </joint>
    <joint name="base_link_Rigid-109" type="fixed">
        <origin xyz="0.08750000364404383 -0.0009999970613996235 0.3071355248626996" rpy="-1.2577698011349667e-15 4.2674197509029474e-16 7.021478737325924e-16" />
        <parent link="base_link" />
        <child link="Comp3" />
    </joint>
    <joint name="Comp3_Rigid-121" type="fixed">
        <origin xyz="0.0 0.0 0.029999999999999964" rpy="1.9721522630525295e-31 -2.3367221232531265e-63 1.1848588808433634e-32" />
        <parent link="Comp3" />
        <child link="Comp4" />
    </joint>
    <joint name="servo1_Rigid-139" type="fixed">
        <origin xyz="0.01 -0.01 0.025999999999999995" rpy="1.5707963267948966 -5.702138497759798e-33 -9.860761315262648e-32" />
        <parent link="servo1" />
        <child link="sensor1" />
    </joint>
    <joint name="servo2_Rigid-140" type="fixed">
        <origin xyz="-0.01 -0.01 0.025999999999999995" rpy="1.5707963267948966 -4.4320160466905134e-32 9.860761315262648e-32" />
        <parent link="servo2" />
        <child link="sensor2" />
    </joint>
    <joint name="servo6_Rigid-141" type="fixed">
        <origin xyz="-0.0005511299999999953 -0.06088231999999998 -0.025" rpy="3.141592653589793 6.518783011447375e-32 -9.860761315262648e-32" />
        <parent link="servo6" />
        <child link="sensor4" />
    </joint>
    <joint name="servo5_Rigid-142" type="fixed">
        <origin xyz="0.0005511300000000042 -0.06088231999999998 -0.025" rpy="-3.141592653589793 2.500881773550205e-31 4.93211964933386e-62" />
        <parent link="servo5" />
        <child link="sensor3" />
    </joint>
    <joint name="Comp4_Rigid-145" type="fixed">
        <origin xyz="-0.01 0.0 0.03" rpy="-7.125610011907874e-33 -1.5707963267948966 0" />
        <parent link="Comp4" />
        <child link="sensor7" />
    </joint>
    <joint name="csmall9_Rigid-146" type="fixed">
        <origin xyz="0.026500000000000003 -6.399999999995298e-07 0.022273630000000006" rpy="-3.0089626695796493e-31 1.5707963267948966 0" />
        <parent link="csmall9" />
        <child link="sensor5" />
    </joint>
    <joint name="csmall4_Rigid-147" type="fixed">
        <origin xyz="-0.0265 -6.399999999995298e-07 0.022273630000000006" rpy="-3.141592653589793 1.5707963267948966 0" />
        <parent link="csmall4" />
        <child link="sensor6" />
    </joint>
    <joint name="Comp3_Rigid-148" type="fixed">
        <origin xyz="0.0 -0.03 0.014999999999999965" rpy="1.5707963267948966 -2.3367221232531265e-63 1.1848588808433634e-32" />
        <parent link="Comp3" />
        <child link="Comp5" />
    </joint>
</robot>
